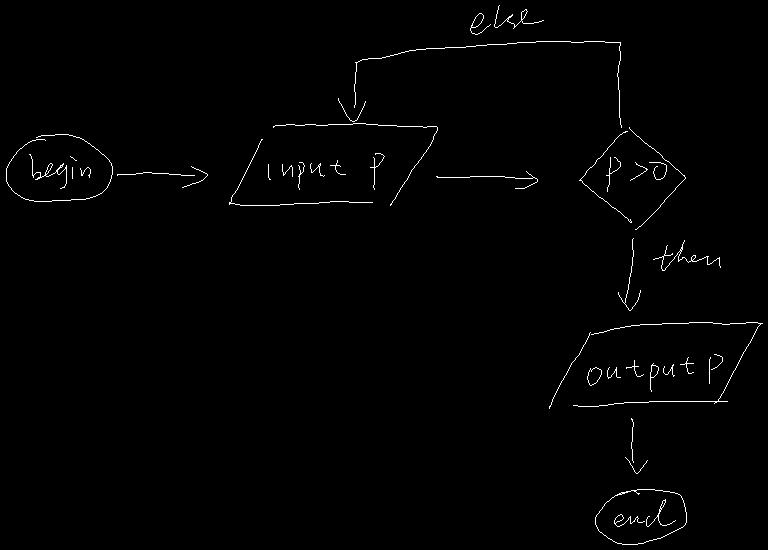arrow: (338, 41, 621, 127), (117, 166, 207, 187), (436, 171, 537, 188), (618, 238, 640, 310), (625, 418, 647, 473)
data: (549, 322, 762, 408), (229, 123, 437, 205)
decision: (579, 127, 685, 229)
terminator: (6, 134, 112, 201), (595, 489, 686, 544)
text: (587, 354, 722, 391), (268, 153, 384, 189), (470, 5, 543, 34), (29, 154, 90, 188), (606, 157, 666, 191), (653, 240, 720, 270), (614, 499, 675, 526)
